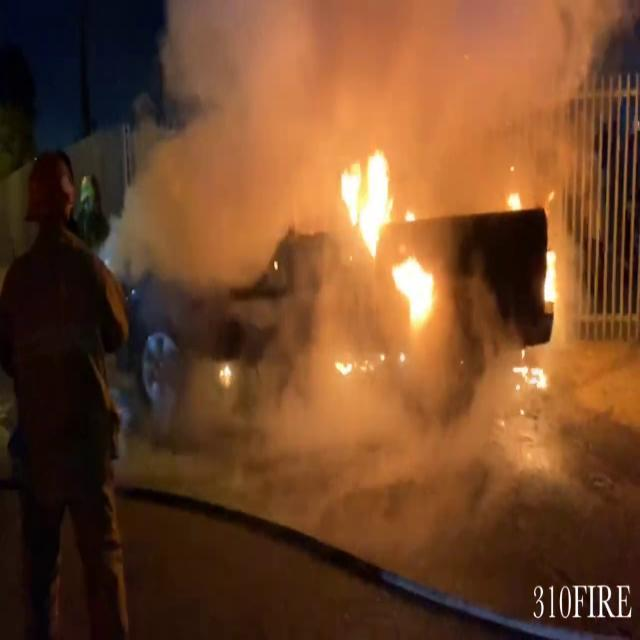Fire: (334, 146, 444, 334)
Smoke: (114, 0, 606, 194)
